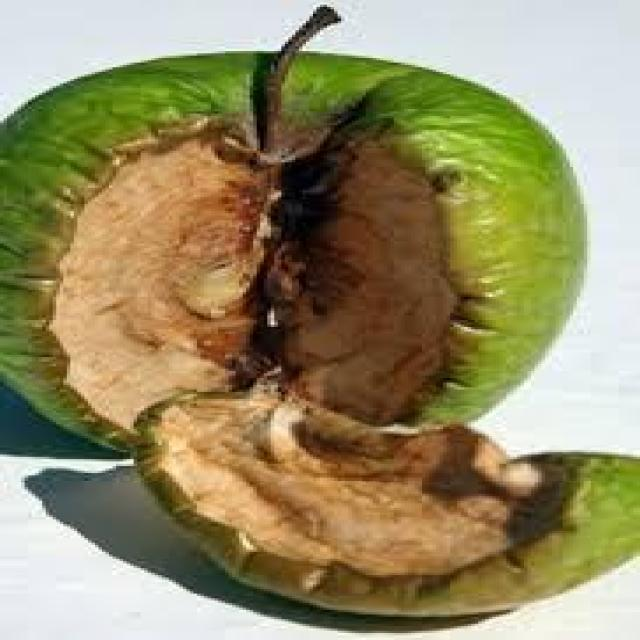maca: (0, 2, 636, 619)
